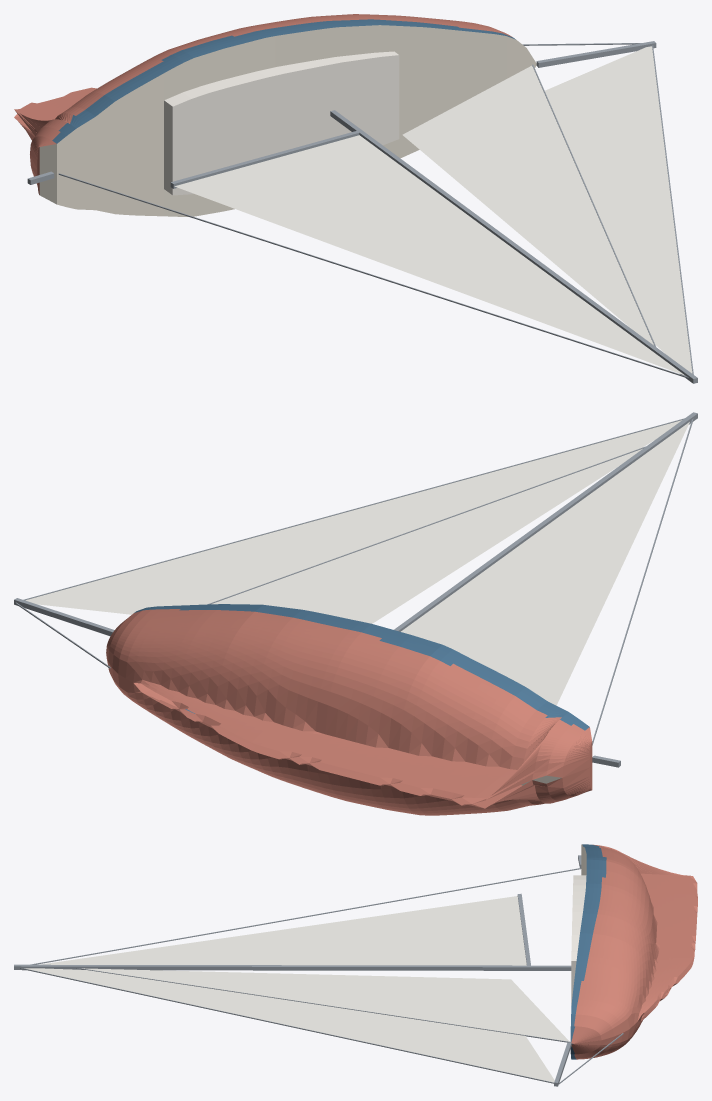
Rendered from hans-christian-38t.glb.
The picture shows the model from 3 angles, top to bottom: view 1: azimuth 30°, elevation 25°; view 2: azimuth 150°, elevation 25°; view 3: azimuth 270°, elevation 25°; orthographic projection. The views are drawn at different scales.
Visible parts, largest first — view 1: Hans Christian 38T; view 2: Hans Christian 38T; view 3: Hans Christian 38T.
Boxes of the visible parts, bbox=[...] form: Hans Christian 38T: bbox=[14, 14, 697, 383]; Hans Christian 38T: bbox=[14, 412, 697, 815]; Hans Christian 38T: bbox=[14, 844, 697, 1086].
Bounding box in the file's own units: 2.53 × 0.6526 × 3.21.
